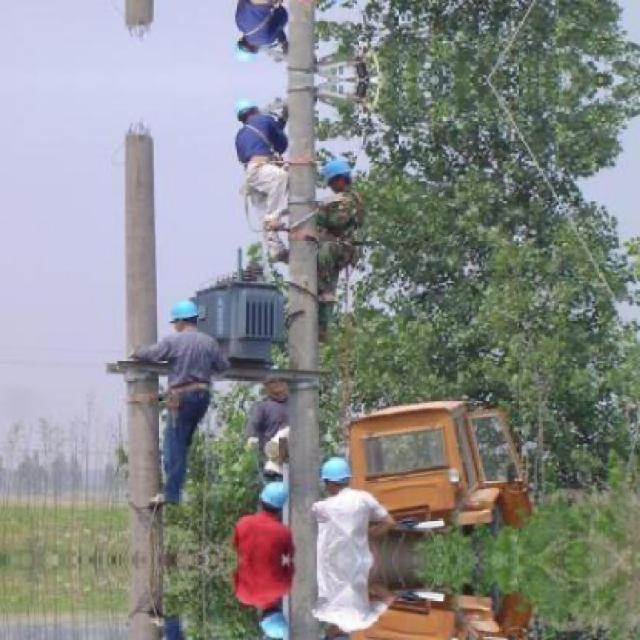helmet: (166, 296, 203, 336), (323, 454, 354, 500), (258, 480, 292, 520), (257, 600, 292, 638), (320, 160, 352, 194), (233, 98, 264, 130), (233, 30, 264, 61), (321, 620, 354, 638)
